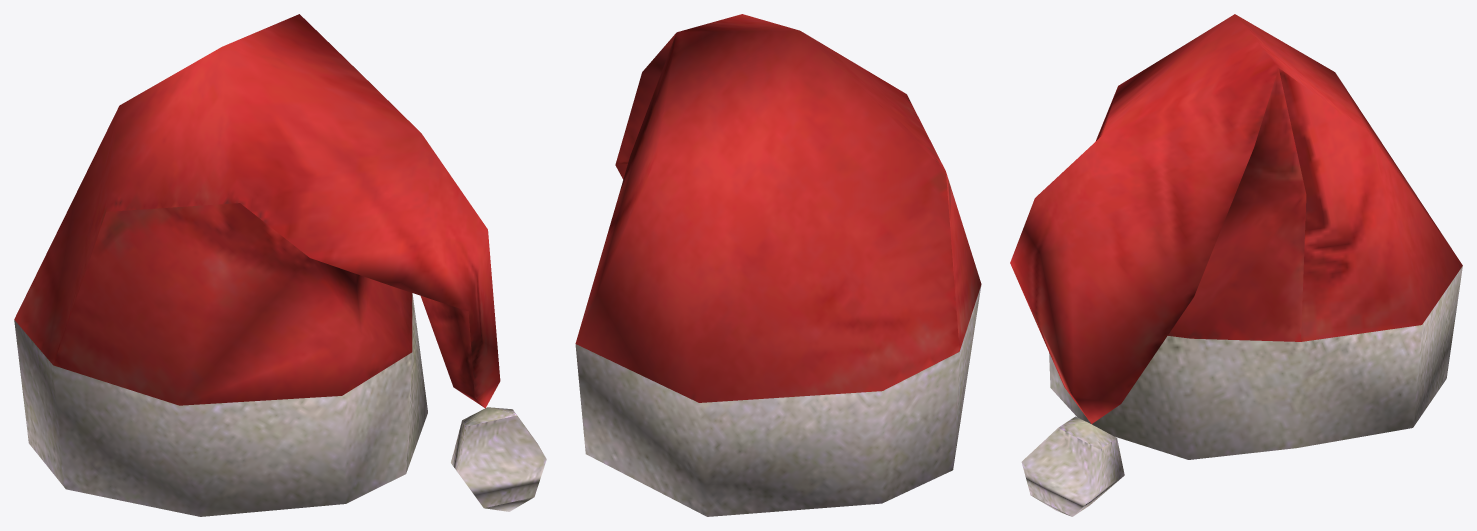
File: Pickup_Sdm01.glb
3 views of the same model, side by side, from view 1: azimuth 30°, elevation 25°; view 2: azimuth 150°, elevation 25°; view 3: azimuth 270°, elevation 25° (orthographic). The views are drawn at different scales.
Parts seen in each view (by area): view 1: pk_sdm_01; view 2: pk_sdm_01; view 3: pk_sdm_01.
Boxes of the visible parts, <box> form: pk_sdm_01: <box>14,14,546,516</box>; pk_sdm_01: <box>575,14,981,516</box>; pk_sdm_01: <box>1010,14,1462,516</box>.
Size of the model in its own units: 0.2795 by 0.2911 by 0.2912.
1 material, 1 textured.
